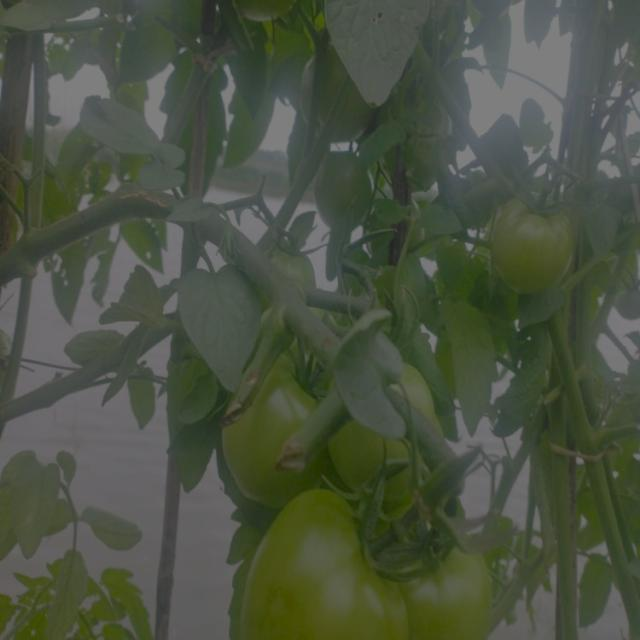tomato: (248, 490, 404, 640), (330, 336, 443, 483), (216, 344, 324, 488), (411, 517, 506, 640), (489, 191, 586, 303), (313, 143, 377, 230), (260, 231, 323, 306)
